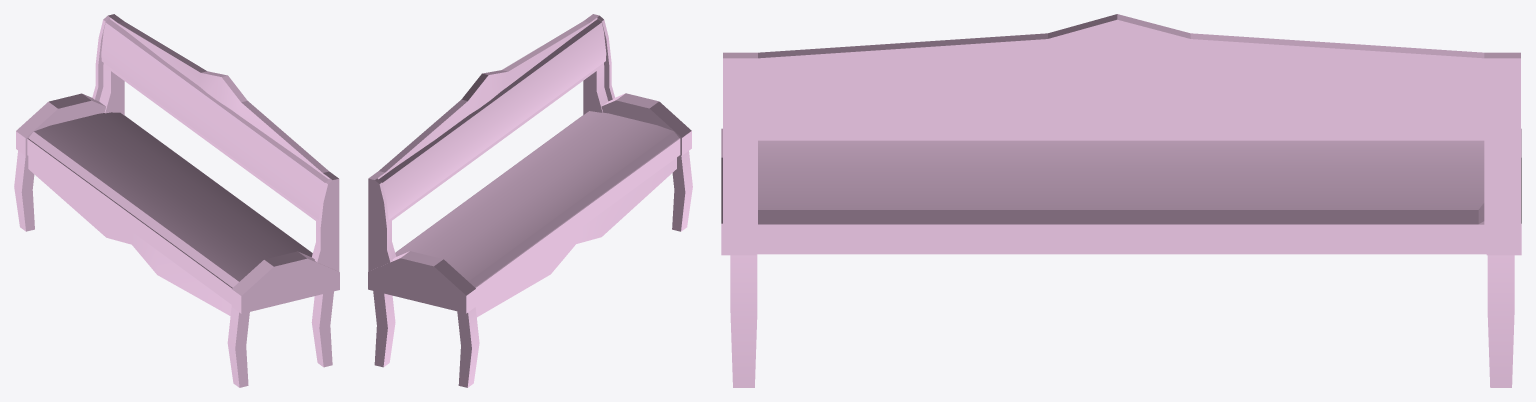
The model's file is SM_Lathe.fbx.
3 views of the same model, side by side, from view 1: azimuth 30°, elevation 25°; view 2: azimuth 150°, elevation 25°; view 3: azimuth 270°, elevation 25° (orthographic). The views are drawn at different scales.
Visible parts, largest first — view 1: Lather; view 2: Lather; view 3: Lather.
Boxes of the visible parts, box(x1,y1,x2,y2) form: Lather: box(14, 14, 339, 387); Lather: box(368, 14, 692, 387); Lather: box(721, 14, 1521, 387).
Bounding box in the file's own units: 56.89 × 112 × 218.
